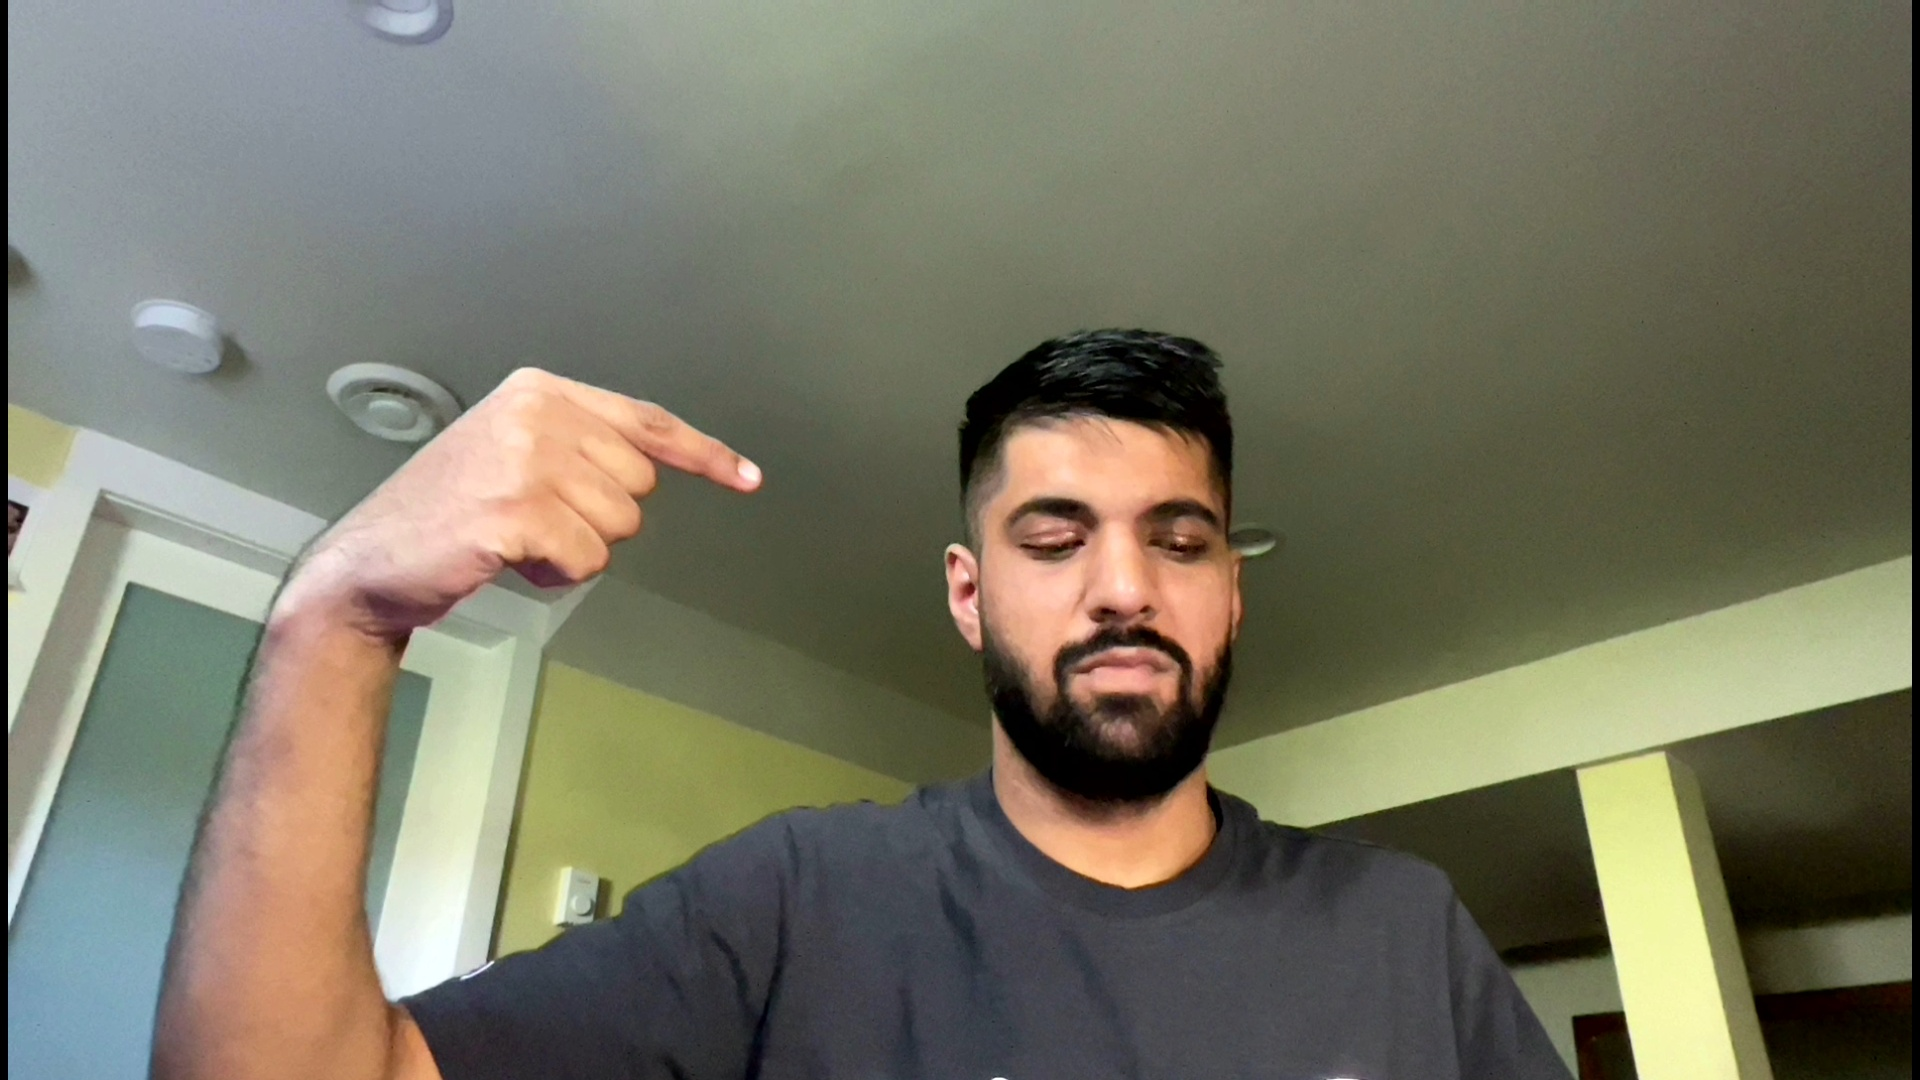Vikrant: (297, 345, 770, 630)
